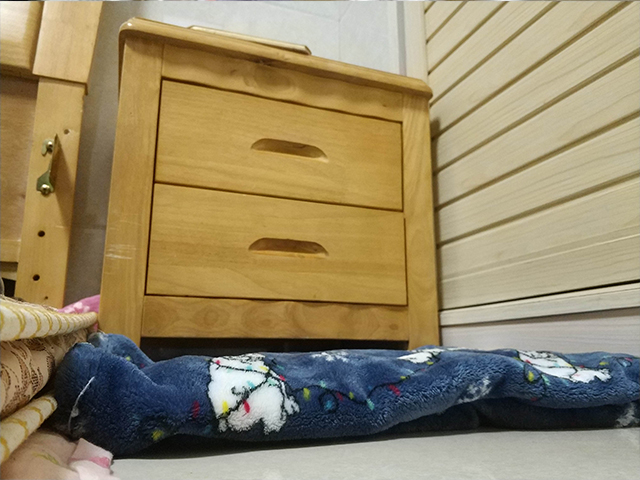cabinet: (95, 14, 444, 352)
